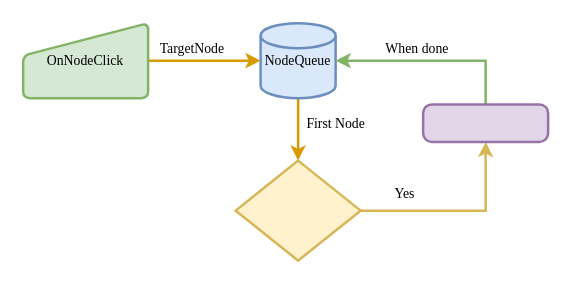
Image size: 570x283. Some labels were removed from this diagram. The shapes that lost their labels are listed below. From the top down, each one's centre as x and y in pixels, then its label:
At point 485,122: "Move towards node".
At point 297,210: "Connected to currentNode?".
